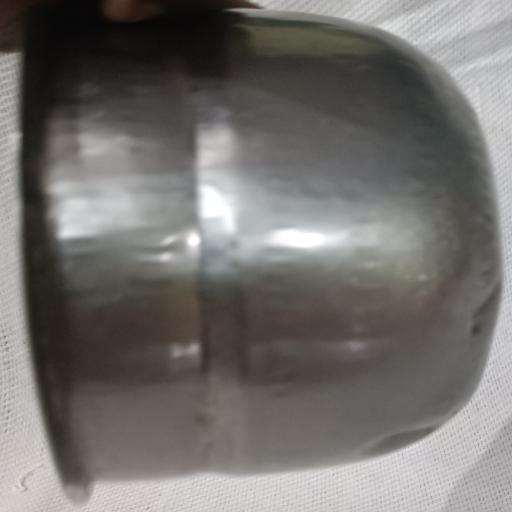vessel: (23, 11, 499, 494)
